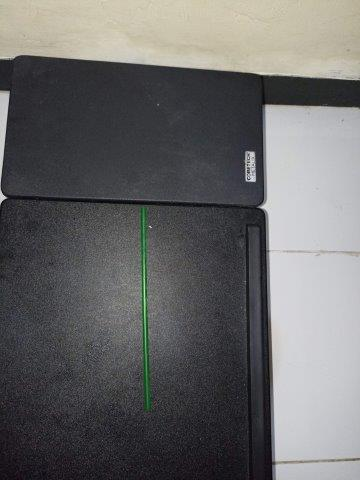sedotan: (140, 207, 150, 410)
